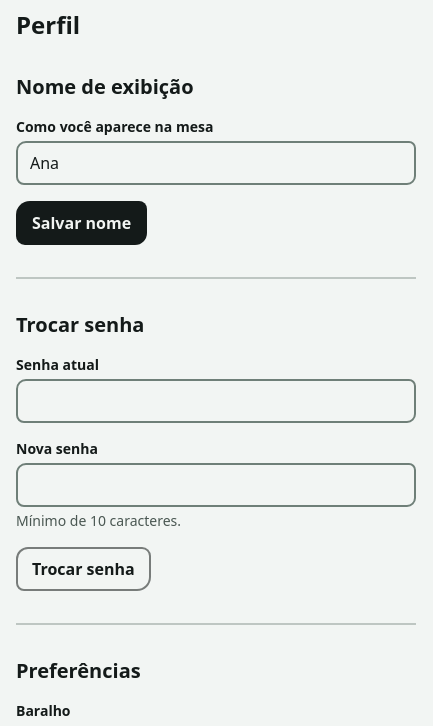
perfil: salva o nome, troca a senha e mostra erro de senha atual
The image size is (433, 726).
Replace the text in the field labelled "Como você aparece na mesa" with "Ana B". click: (216, 163)
box: 16,141 -> 416,185
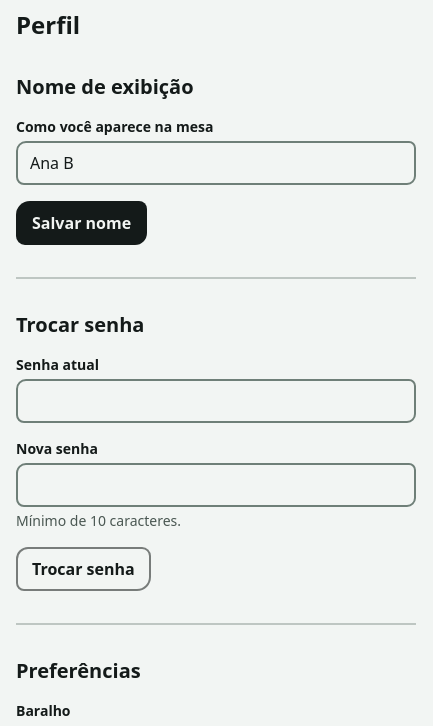
Submit the form "Como você aparece na mesa Salvar nome", box 16,117 -> 416,245
Type "velha-senha-1" into the password field labelled "Senha atual". click: (216, 401)
box: 16,379 -> 416,423
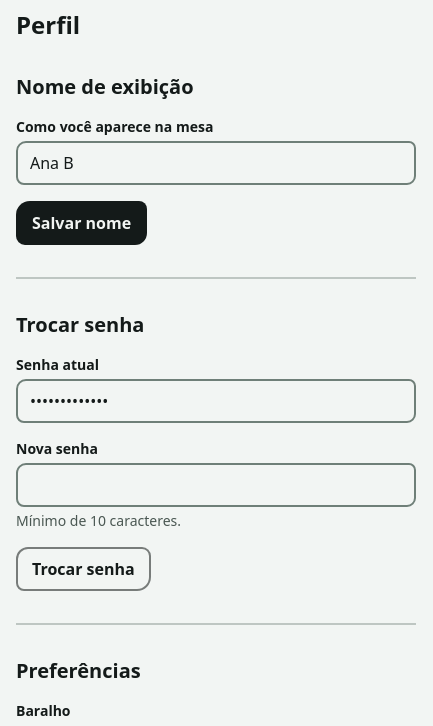
Type "nova-senha-1234" into the password field labelled "Nova senha". click: (216, 485)
box: 16,463 -> 416,507
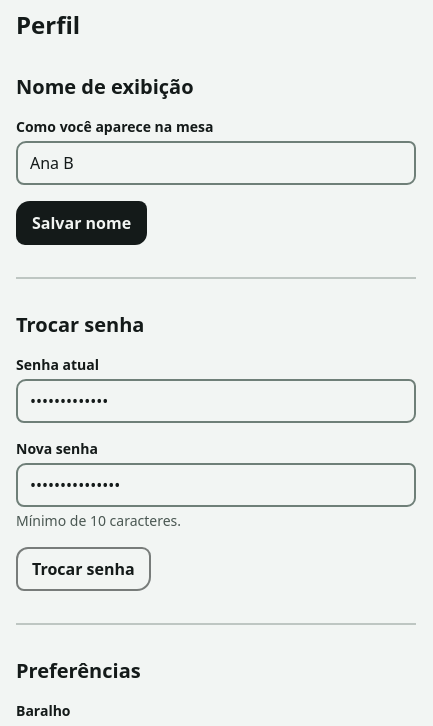
Submit the form "Senha atual Nova senha Mínimo de 10 caracteres. Trocar senha", box 16,355 -> 416,591
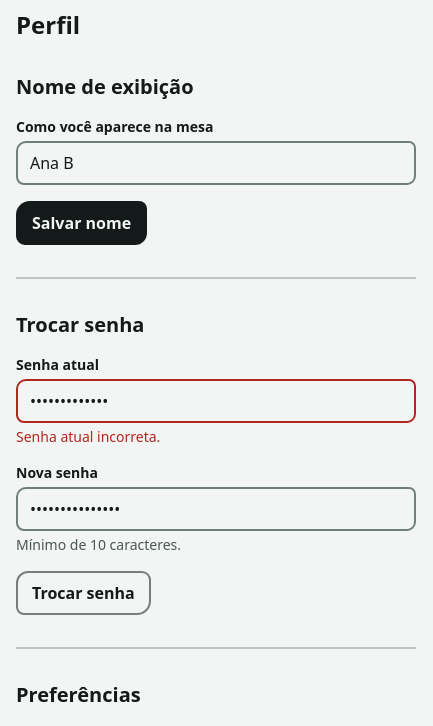
Check: the text "Senha atual incorreta." is shown, box 16,427 -> 160,446
